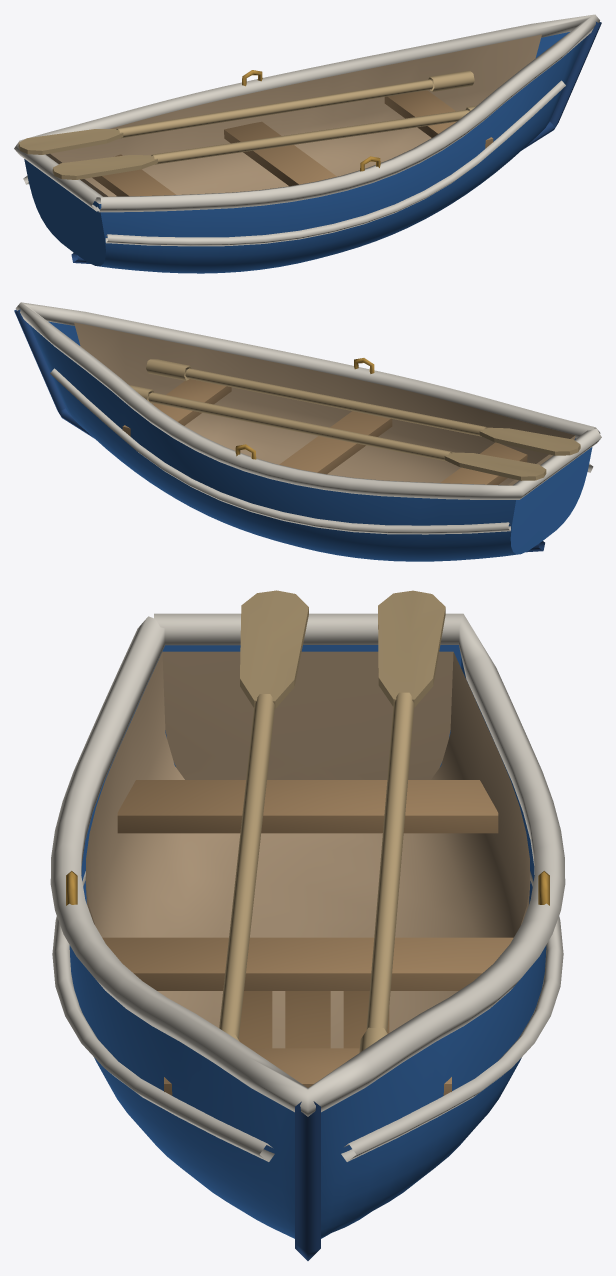
Rendered from furn_od_rowboat.glb.
3 renders of one model, top to bottom at view 1: azimuth 30°, elevation 25°; view 2: azimuth 150°, elevation 25°; view 3: azimuth 270°, elevation 25°, orthographic. The views are drawn at different scales.
Visible parts, largest first — view 1: furn_od_rowboat_main; view 2: furn_od_rowboat_main; view 3: furn_od_rowboat_main.
Boxes of the visible parts, x1=… form: furn_od_rowboat_main: x1=14, y1=14, x2=601, y2=273; furn_od_rowboat_main: x1=14, y1=302, x2=601, y2=561; furn_od_rowboat_main: x1=50, y1=590, x2=565, y2=1260.
Size of the model in its own units: 1.97 by 0.5217 by 0.7907.
